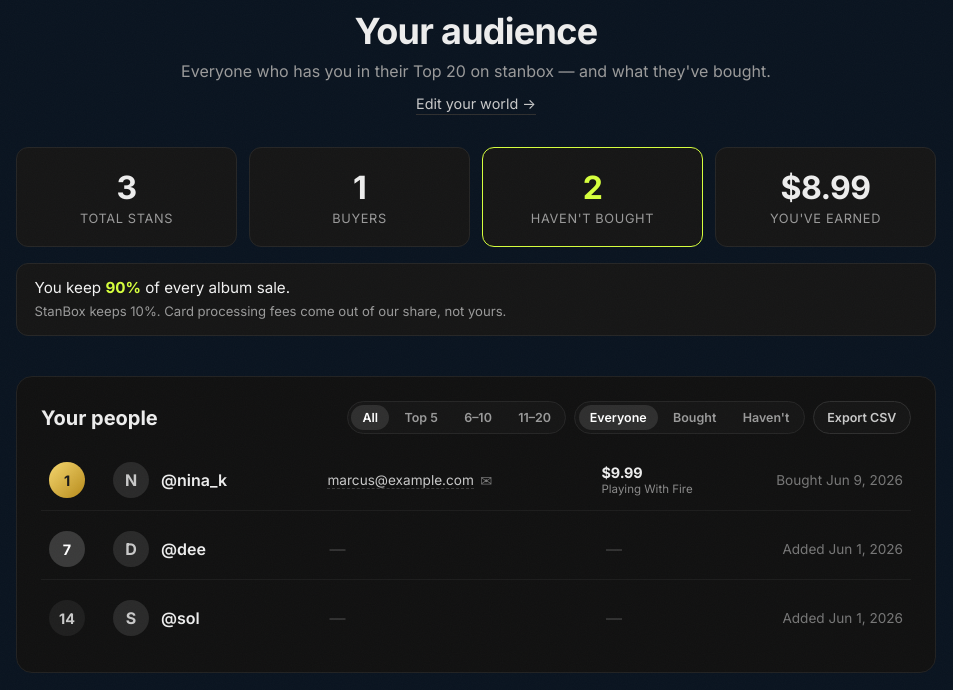
Test: ArtistDashboard › filters › narrows to people who haven't bought
This screenshot has width=953, height=690.
Expected: the text "@nina_k" is shown, [161,470,227,490]
Click the button "Haven't" at (766, 418), box [732,405,800,430]
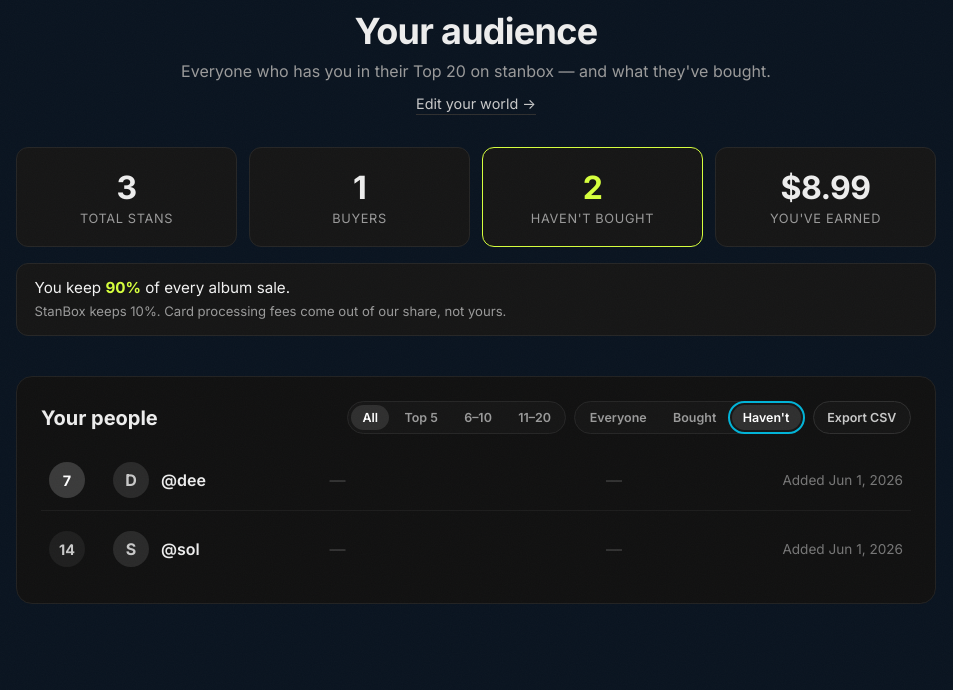
Expected: the text "@dee" is shown, [161,470,206,490]
Expected: the link "@nina_k" is gone
